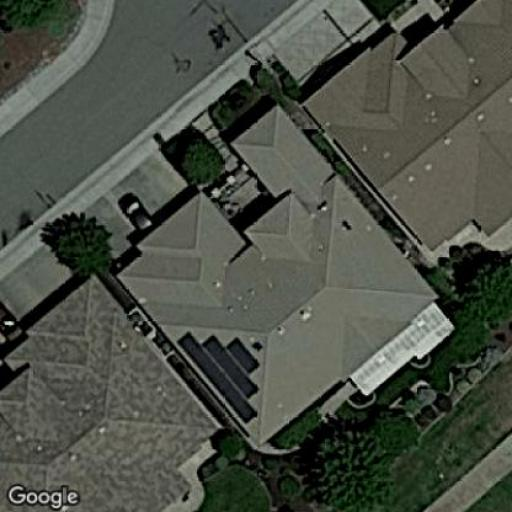solar-panel: (175, 329, 262, 425)
